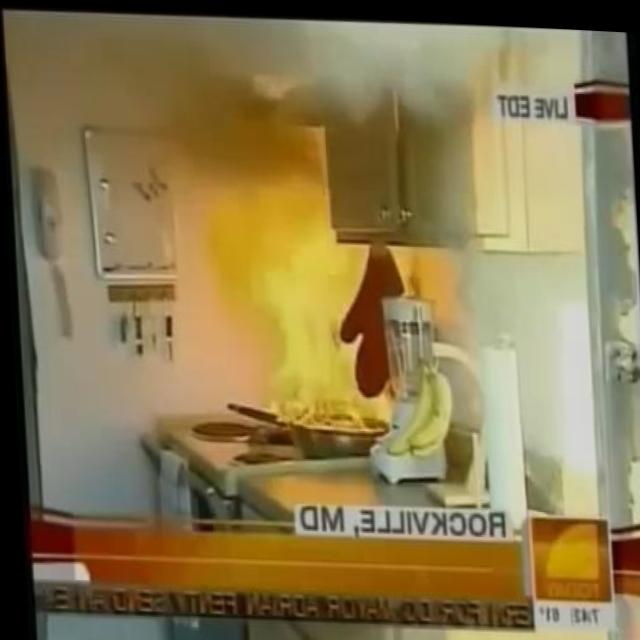fire: (204, 166, 404, 436)
